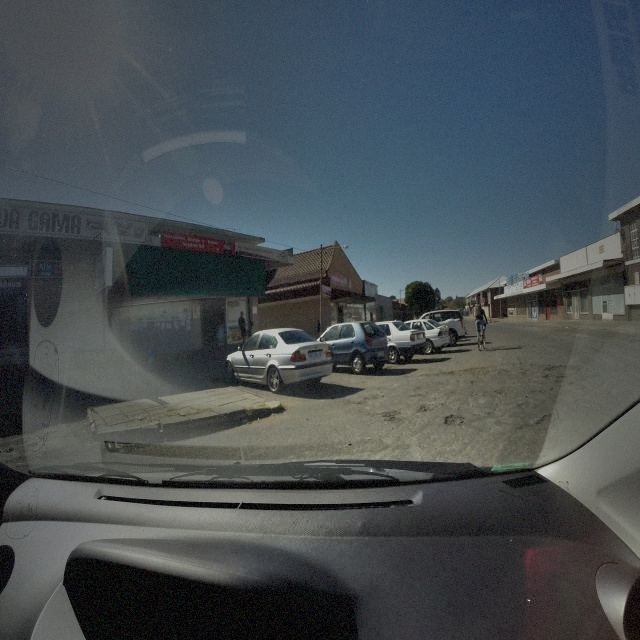pothole: (536, 410, 557, 428), (443, 411, 466, 426), (381, 407, 400, 420), (419, 402, 433, 412)
